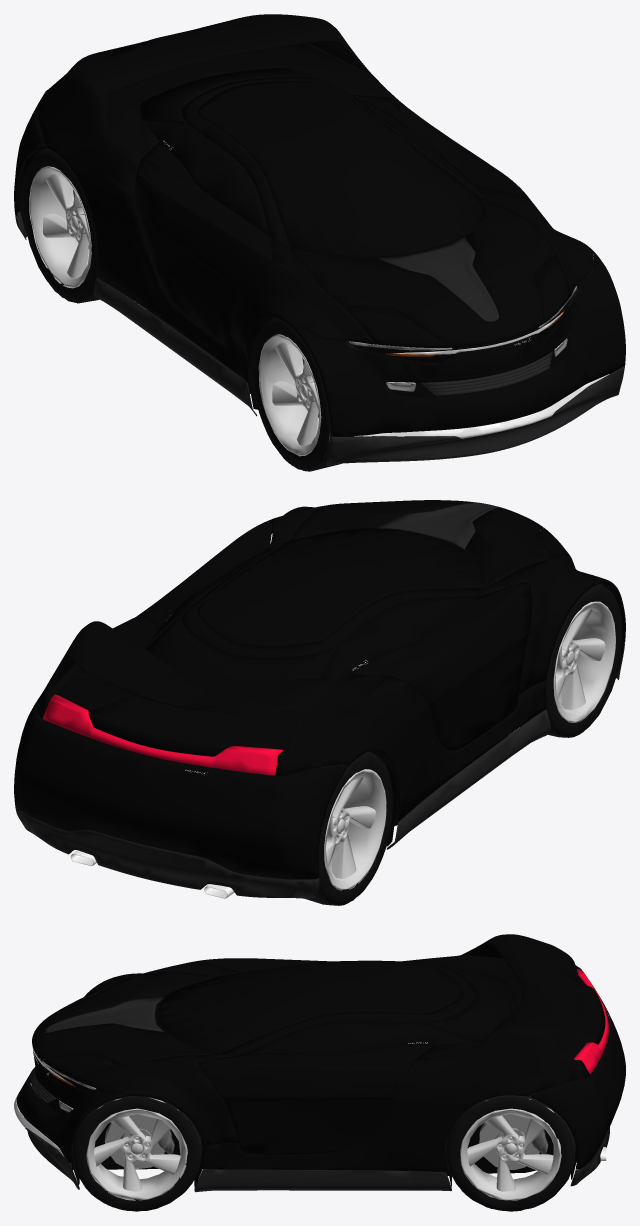
File: c040_lite.glb
3 views of the same model, one above another, from view 1: azimuth 30°, elevation 25°; view 2: azimuth 150°, elevation 25°; view 3: azimuth 270°, elevation 25° (orthographic). The views are drawn at different scales.
Parts seen in each view (by area): view 1: Object_7, Object_11, Object_13, Object_12, Object_15, Object_22, Object_16, Object_26, Object_8, Object_10, Object_24, Object_14 (+5 smaller); view 2: Object_11, Object_7, Object_17, Object_15, Object_12, Object_21, Object_26, Object_16, Object_8, Object_2, Object_24, Object_22 (+3 smaller); view 3: Object_11, Object_7, Object_15, Object_12, Object_8, Object_16, Object_26, Object_21, Object_17, Object_24, Object_13, Object_10 (+9 smaller).
Boxes of the visible parts, <box> form: Object_7: <box>140,68,483,257</box>; Object_11: <box>37,14,406,382</box>; Object_13: <box>292,252,625,436</box>; Object_12: <box>182,77,555,347</box>; Object_15: <box>135,95,528,346</box>; Object_22: <box>326,237,624,465</box>; Object_16: <box>230,186,594,353</box>; Object_26: <box>29,166,330,456</box>; Object_8: <box>22,150,569,470</box>; Object_10: <box>18,107,582,437</box>; Object_24: <box>42,174,318,445</box>; Object_14: <box>345,256,570,347</box>; Object_11: <box>37,615,546,821</box>; Object_7: <box>144,528,483,680</box>; Object_17: <box>14,697,346,879</box>; Object_15: <box>137,519,531,750</box>; Object_12: <box>182,500,555,658</box>; Object_21: <box>15,709,550,898</box>; Object_26: <box>324,601,615,890</box>; Object_16: <box>270,504,594,693</box>; Object_8: <box>269,542,622,905</box>; Object_2: <box>43,694,283,775</box>; Object_24: <box>326,638,605,878</box>; Object_22: <box>378,503,624,679</box>; Object_11: <box>203,934,605,1171</box>; Object_7: <box>158,961,516,1054</box>; Object_15: <box>198,958,431,1154</box>; Object_12: <box>32,960,475,1066</box>; Object_8: <box>73,1096,574,1211</box>; Object_16: <box>80,961,240,1144</box>; Object_26: <box>86,1098,561,1200</box>; Object_21: <box>194,1127,609,1192</box>; Object_17: <box>530,996,625,1169</box>; Object_24: <box>93,1118,553,1191</box>; Object_13: <box>16,974,128,1162</box>; Object_10: <box>40,983,601,1187</box>.
Bounding box in the file's own units: 1.84 × 1.24 × 3.96.
